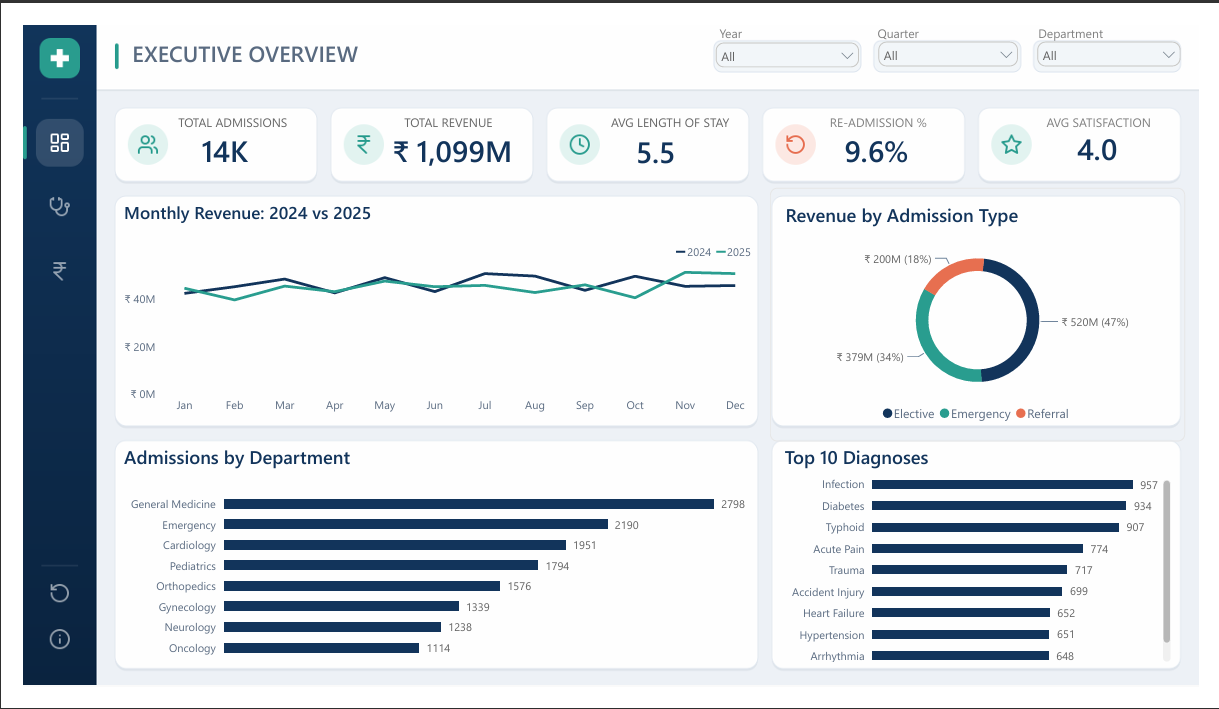

What the dashboard file says about the page in this screenshot:
{"tool":"powerbi","page":{"name":"Executive Overview","canvas":[1280,720],"ordinal":0},"visuals":[{"type":"textbox","title":"Title","box":[119.3,14.3,267.2,39.8],"z":0},{"type":"cardVisual","title":"Card_admissions","fields":{"Data":["_measures.Total Admissions"]},"box":[177.7,105,93.7,59.8],"z":1000},{"type":"textbox","box":[169,97,134.1,24.2],"z":2000},{"type":"cardVisual","title":"Card_revenue","fields":{"Data":["_measures.Total Revenue"]},"box":[386.1,106.6,163.2,56.5],"z":3000},{"type":"textbox","box":[415,97,134.1,24.2],"z":4000},{"type":"textbox","box":[639.7,96.9,147,24.2],"z":5000},{"type":"textbox","box":[878,97,134.1,24.2],"z":6000},{"type":"textbox","box":[1114,97,134.1,24.2],"z":7000},{"type":"cardVisual","title":"Card_AvgStay","fields":{"Data":["_measures.Avg Length of Stay"]},"box":[650.6,106.6,98.5,58.2],"z":8000},{"type":"cardVisual","title":"Card_ReAdmission","fields":{"Data":["_measures.Readmission Rate %"]},"box":[878,93.8,114.5,82.7],"z":9000},{"type":"cardVisual","title":"Card_Satisfaction","fields":{"Data":["_measures.Avg Satisfaction"]},"box":[1130.9,103.4,95.3,59.8],"z":10000},{"type":"lineChart","title":"\tMonthly Revenue: 2024 vs 2025","fields":{"Category":["Dim_Date.Month"],"Series":["Dim_Date.Year"],"Y":["_measures.Total Revenue"]},"box":[93.8,176.6,719,265.6],"z":11000},{"type":"donutChart","title":"Revenue by Admission Type","fields":{"Category":["Fact_Admissions.AdmissionType"],"Y":["_measures.Total Revenue"]},"box":[812.8,176.6,451.7,276.8],"z":12000},{"type":"clusteredBarChart","title":"Admissions by Department","fields":{"Category":["Dim_Department.DepartmentName"],"Y":["_measures.Total Admissions"]},"box":[93.8,442.2,707.8,265.6],"z":13000},{"type":"clusteredBarChart","title":"Top 10 Diagnoses","fields":{"Category":["Fact_Admissions.Diagnosis"],"Y":["_measures.Total Admissions"]},"box":[812.8,442.2,451.7,265.6],"z":14000},{"type":"textbox","box":[758,0,41.4,20.7],"z":15000},{"type":"textbox","box":[930,0,81.1,20.7],"z":16000},{"type":"textbox","box":[1105,0,93.8,20.7],"z":17000},{"type":"actionButton","box":[0,167,77.9,55.7],"z":18000},{"type":"actionButton","box":[0,237,77.9,55.7],"z":19000},{"type":"actionButton","box":[17.8,596,45.3,42.1],"z":20000},{"type":"actionButton","box":[17.8,637.6,45.3,51.8],"z":21000},{"type":"slicer","fields":{"Values":["Dim_Date.Year"]},"box":[749.2,14.3,165.4,41.4],"z":22000},{"type":"slicer","fields":{"Values":["Dim_Patient.InsuranceProvider"]},"box":[1099.1,12.7,165.4,38.2],"z":23000},{"type":"slicer","fields":{"Values":["Dim_Date.Quarter"]},"box":[925.7,12.7,162.2,41.4],"z":24000}]}

Visuals, with their boxes on the page's 1280x720 design canvas (x1, y1, x2, y2). These are canvas units, not pixel positions in the 1219x709 screenshot, which may show the page scaled, cropped or inside an application window:
"Title" textbox: Rect(119, 14, 386, 54)
"Card_admissions" cardVisual: Rect(178, 105, 271, 165)
textbox: Rect(169, 97, 303, 121)
"Card_revenue" cardVisual: Rect(386, 107, 549, 163)
textbox: Rect(415, 97, 549, 121)
textbox: Rect(640, 97, 787, 121)
textbox: Rect(878, 97, 1012, 121)
textbox: Rect(1114, 97, 1248, 121)
"Card_AvgStay" cardVisual: Rect(651, 107, 749, 165)
"Card_ReAdmission" cardVisual: Rect(878, 94, 992, 176)
"Card_Satisfaction" cardVisual: Rect(1131, 103, 1226, 163)
"	Monthly Revenue: 2024 vs 2025" lineChart: Rect(94, 177, 813, 442)
"Revenue by Admission Type" donutChart: Rect(813, 177, 1264, 453)
"Admissions by Department" clusteredBarChart: Rect(94, 442, 802, 708)
"Top 10 Diagnoses" clusteredBarChart: Rect(813, 442, 1264, 708)
textbox: Rect(758, 0, 799, 21)
textbox: Rect(930, 0, 1011, 21)
textbox: Rect(1105, 0, 1199, 21)
actionButton: Rect(0, 167, 78, 223)
actionButton: Rect(0, 237, 78, 293)
actionButton: Rect(18, 596, 63, 638)
actionButton: Rect(18, 638, 63, 689)
slicer - Dim_Date.Year: Rect(749, 14, 915, 56)
slicer - Dim_Patient.InsuranceProvider: Rect(1099, 13, 1264, 51)
slicer - Dim_Date.Quarter: Rect(926, 13, 1088, 54)
